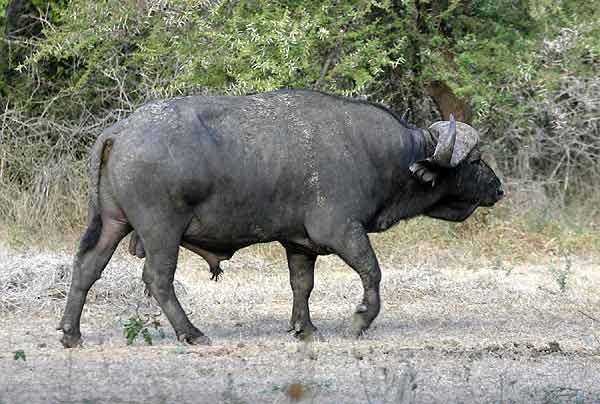buffalo: (56, 90, 501, 348)
